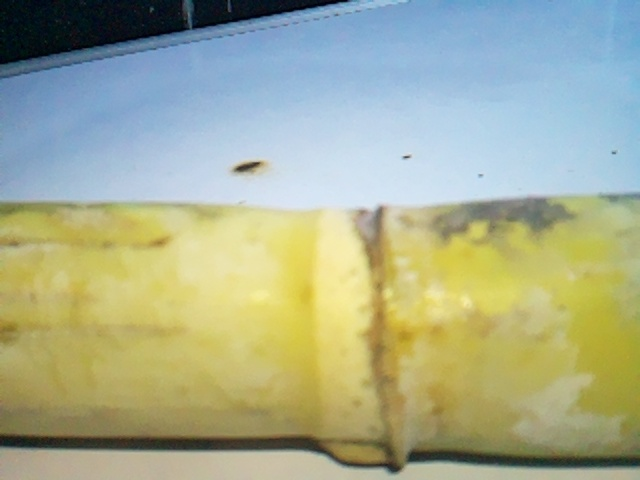Good Sugarcane: (0, 184, 635, 443)
Node: (275, 198, 442, 473)
